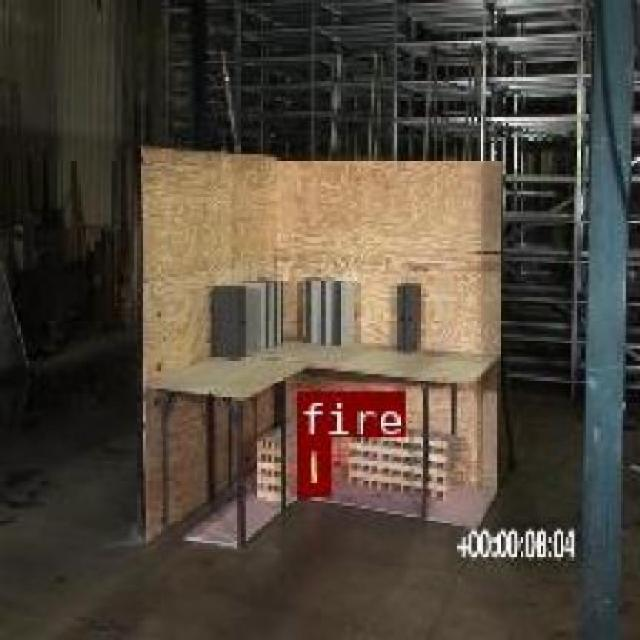Fire: (294, 434, 328, 492)
